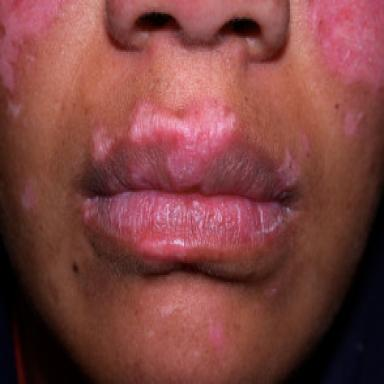Lupus-Erythematosus-Chronicus-Discoides: (131, 101, 235, 188), (309, 1, 384, 89), (0, 0, 63, 92), (92, 125, 114, 162), (278, 151, 299, 187), (21, 180, 37, 211), (343, 113, 364, 136), (7, 99, 21, 117), (301, 133, 311, 157)
